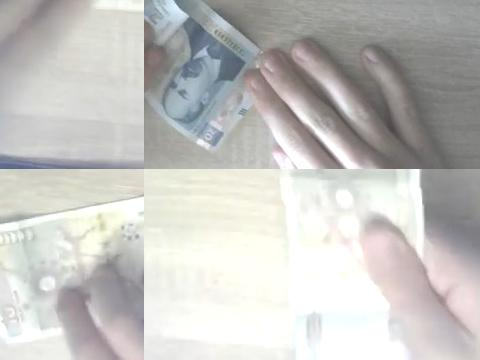10leva: (278, 169, 427, 360)
20leva: (144, 0, 260, 150)
